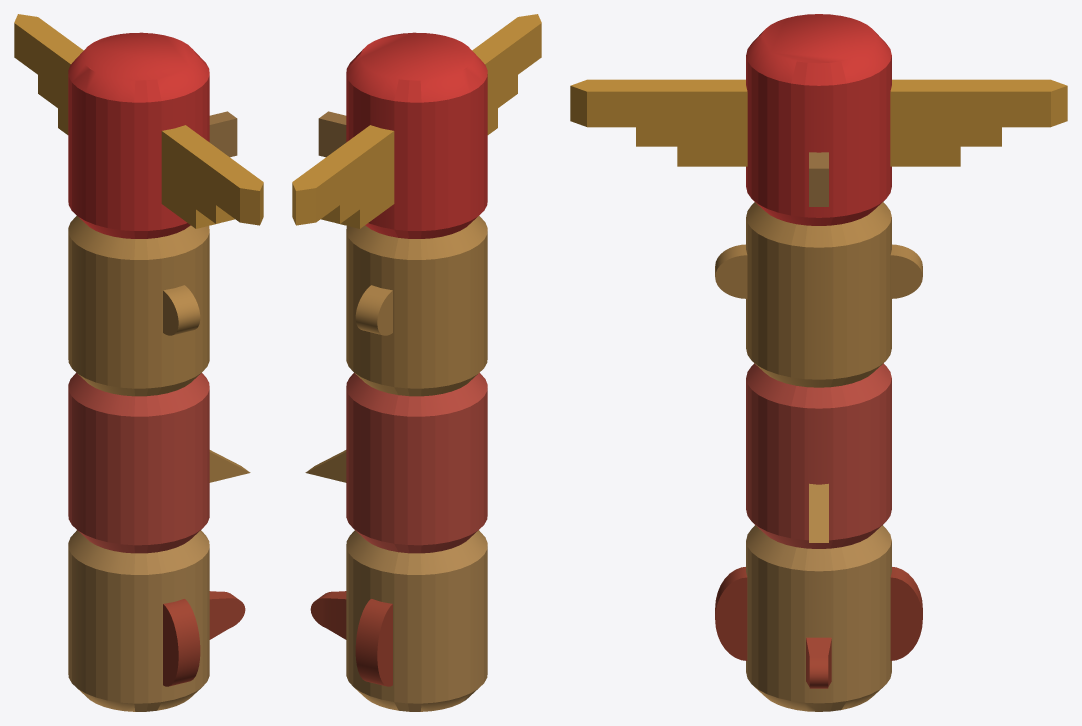
Rendered from totem.glb.
3 views of the same model, side by side, from view 1: azimuth 30°, elevation 25°; view 2: azimuth 150°, elevation 25°; view 3: azimuth 270°, elevation 25° (orthographic). The views are drawn at different scales.
Visible parts, largest first — view 1: Totem; view 2: Totem; view 3: Totem.
Boxes of the visible parts, x1,y1,x2,y2 form: Totem: [14, 14, 263, 711]; Totem: [292, 14, 541, 711]; Totem: [570, 14, 1067, 711].
Bounding box in the file's own units: 2.74 × 9.83 × 6.82.
9 materials, 7 textured.
